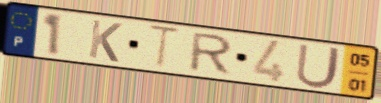1: (40, 11, 64, 58)
4: (250, 38, 289, 86)
K: (86, 17, 125, 64)
R: (185, 31, 236, 77)
T: (145, 22, 184, 72)
U: (293, 42, 344, 90)
